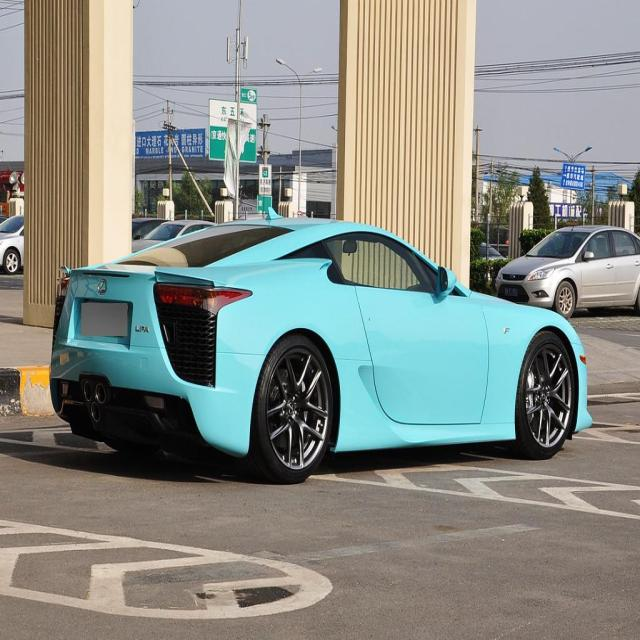back_glass: (110, 222, 294, 269)
back_left_side_light: (50, 269, 74, 305)
back_right_side_light: (151, 279, 253, 317)
front_right_side_door: (351, 224, 492, 428)
front_right_side_mirror: (432, 263, 457, 298)
rear_bumper: (48, 334, 270, 460)
wheel: (254, 338, 334, 478), (516, 331, 576, 459)
